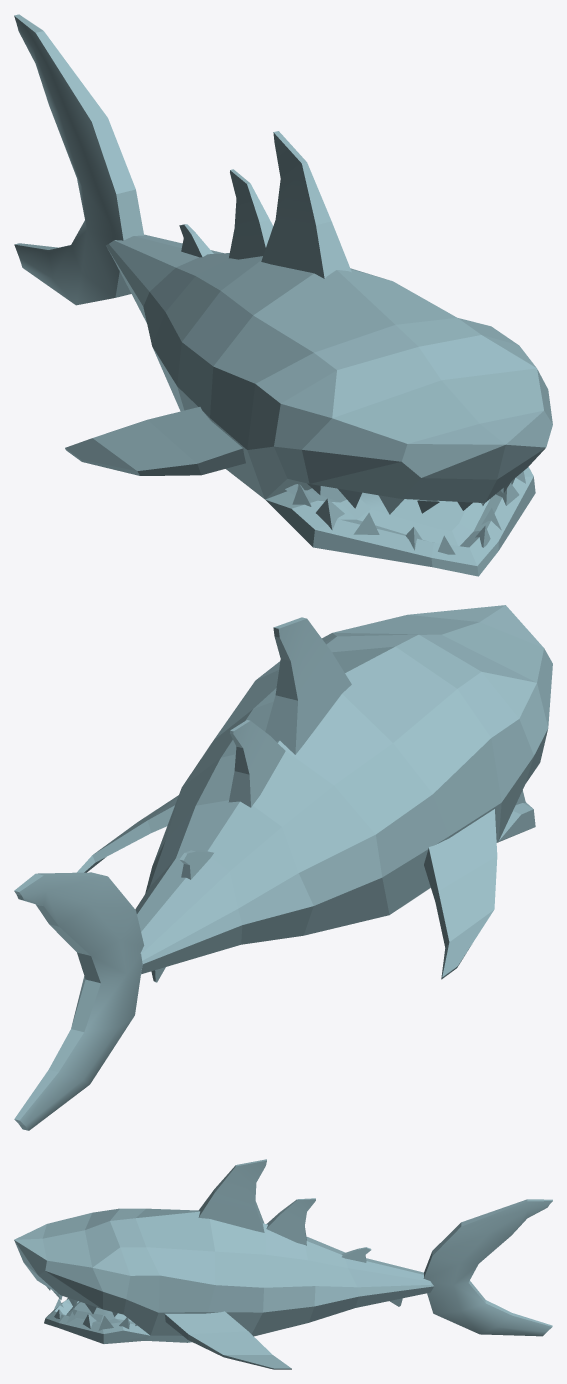
3 views of the same model, one above another, from view 1: azimuth 30°, elevation 25°; view 2: azimuth 150°, elevation 25°; view 3: azimuth 270°, elevation 25° (orthographic). The views are drawn at different scales.
Parts seen in each view (by area): view 1: V_theme1_Naveless; view 2: V_theme1_Naveless; view 3: V_theme1_Naveless.
Part boxes in pixels (x1=…): V_theme1_Naveless: x1=14, y1=14, x2=552, y2=576; V_theme1_Naveless: x1=14, y1=605, x2=552, y2=1130; V_theme1_Naveless: x1=14, y1=1159, x2=552, y2=1369.
Size of the model in its own units: 542 by 437 by 1217.
